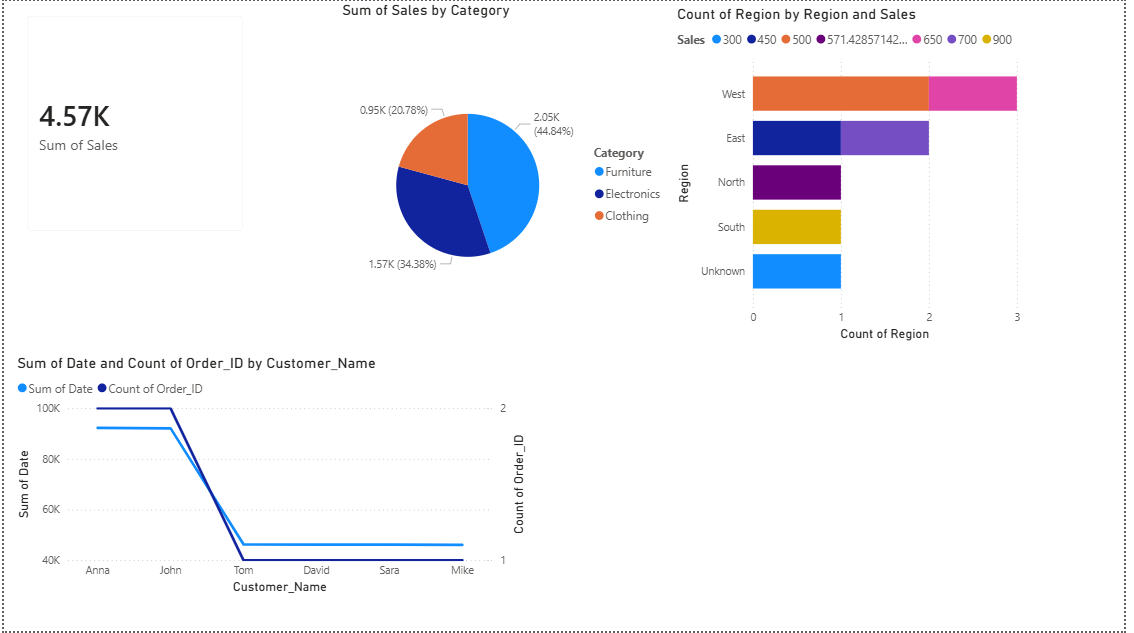

The dashboard page shown, as its layout file describes it:
{"tool":"powerbi","page":{"name":"Page 1","canvas":[1280,720],"ordinal":0},"visuals":[{"type":"cardVisual","fields":{"Data":["Sum(Sheet1.Sales)"]},"box":[10,0,280,280],"z":0},{"type":"pieChart","fields":{"Y":["Sum(Sheet1.Sales)"],"Category":["Sheet1.Category"]},"box":[381.2,0,382.5,402.5],"z":1000},{"type":"barChart","fields":{"Category":["Sheet1.Region"],"Series":["Sheet1.Sales"],"Y":["CountNonNull(Sheet1.Region)"]},"box":[763.8,3.8,402.5,388.8],"z":2000},{"type":"lineChart","fields":{"Y":["Sum(Sheet1.Date)"],"Category":["Sheet1.Customer_Name"],"Y2":["CountNonNull(Sheet1.Order_ID)"]},"box":[10,402.5,591.2,280],"z":2001}]}

Visuals, with their boxes in screenshot pixels (x1, y1, x2, y2), scaled from the page's 1280x720 canvas onto the 1134x633 screenshot:
cardVisual - Sum(Sheet1.Sales): [9,0,257,246]
pieChart - Sum(Sheet1.Sales) x Sheet1.Category: [338,0,677,354]
barChart - Sheet1.Region x Sheet1.Sales: [677,3,1033,345]
lineChart - Sum(Sheet1.Date) x Sheet1.Customer_Name: [9,354,533,600]
